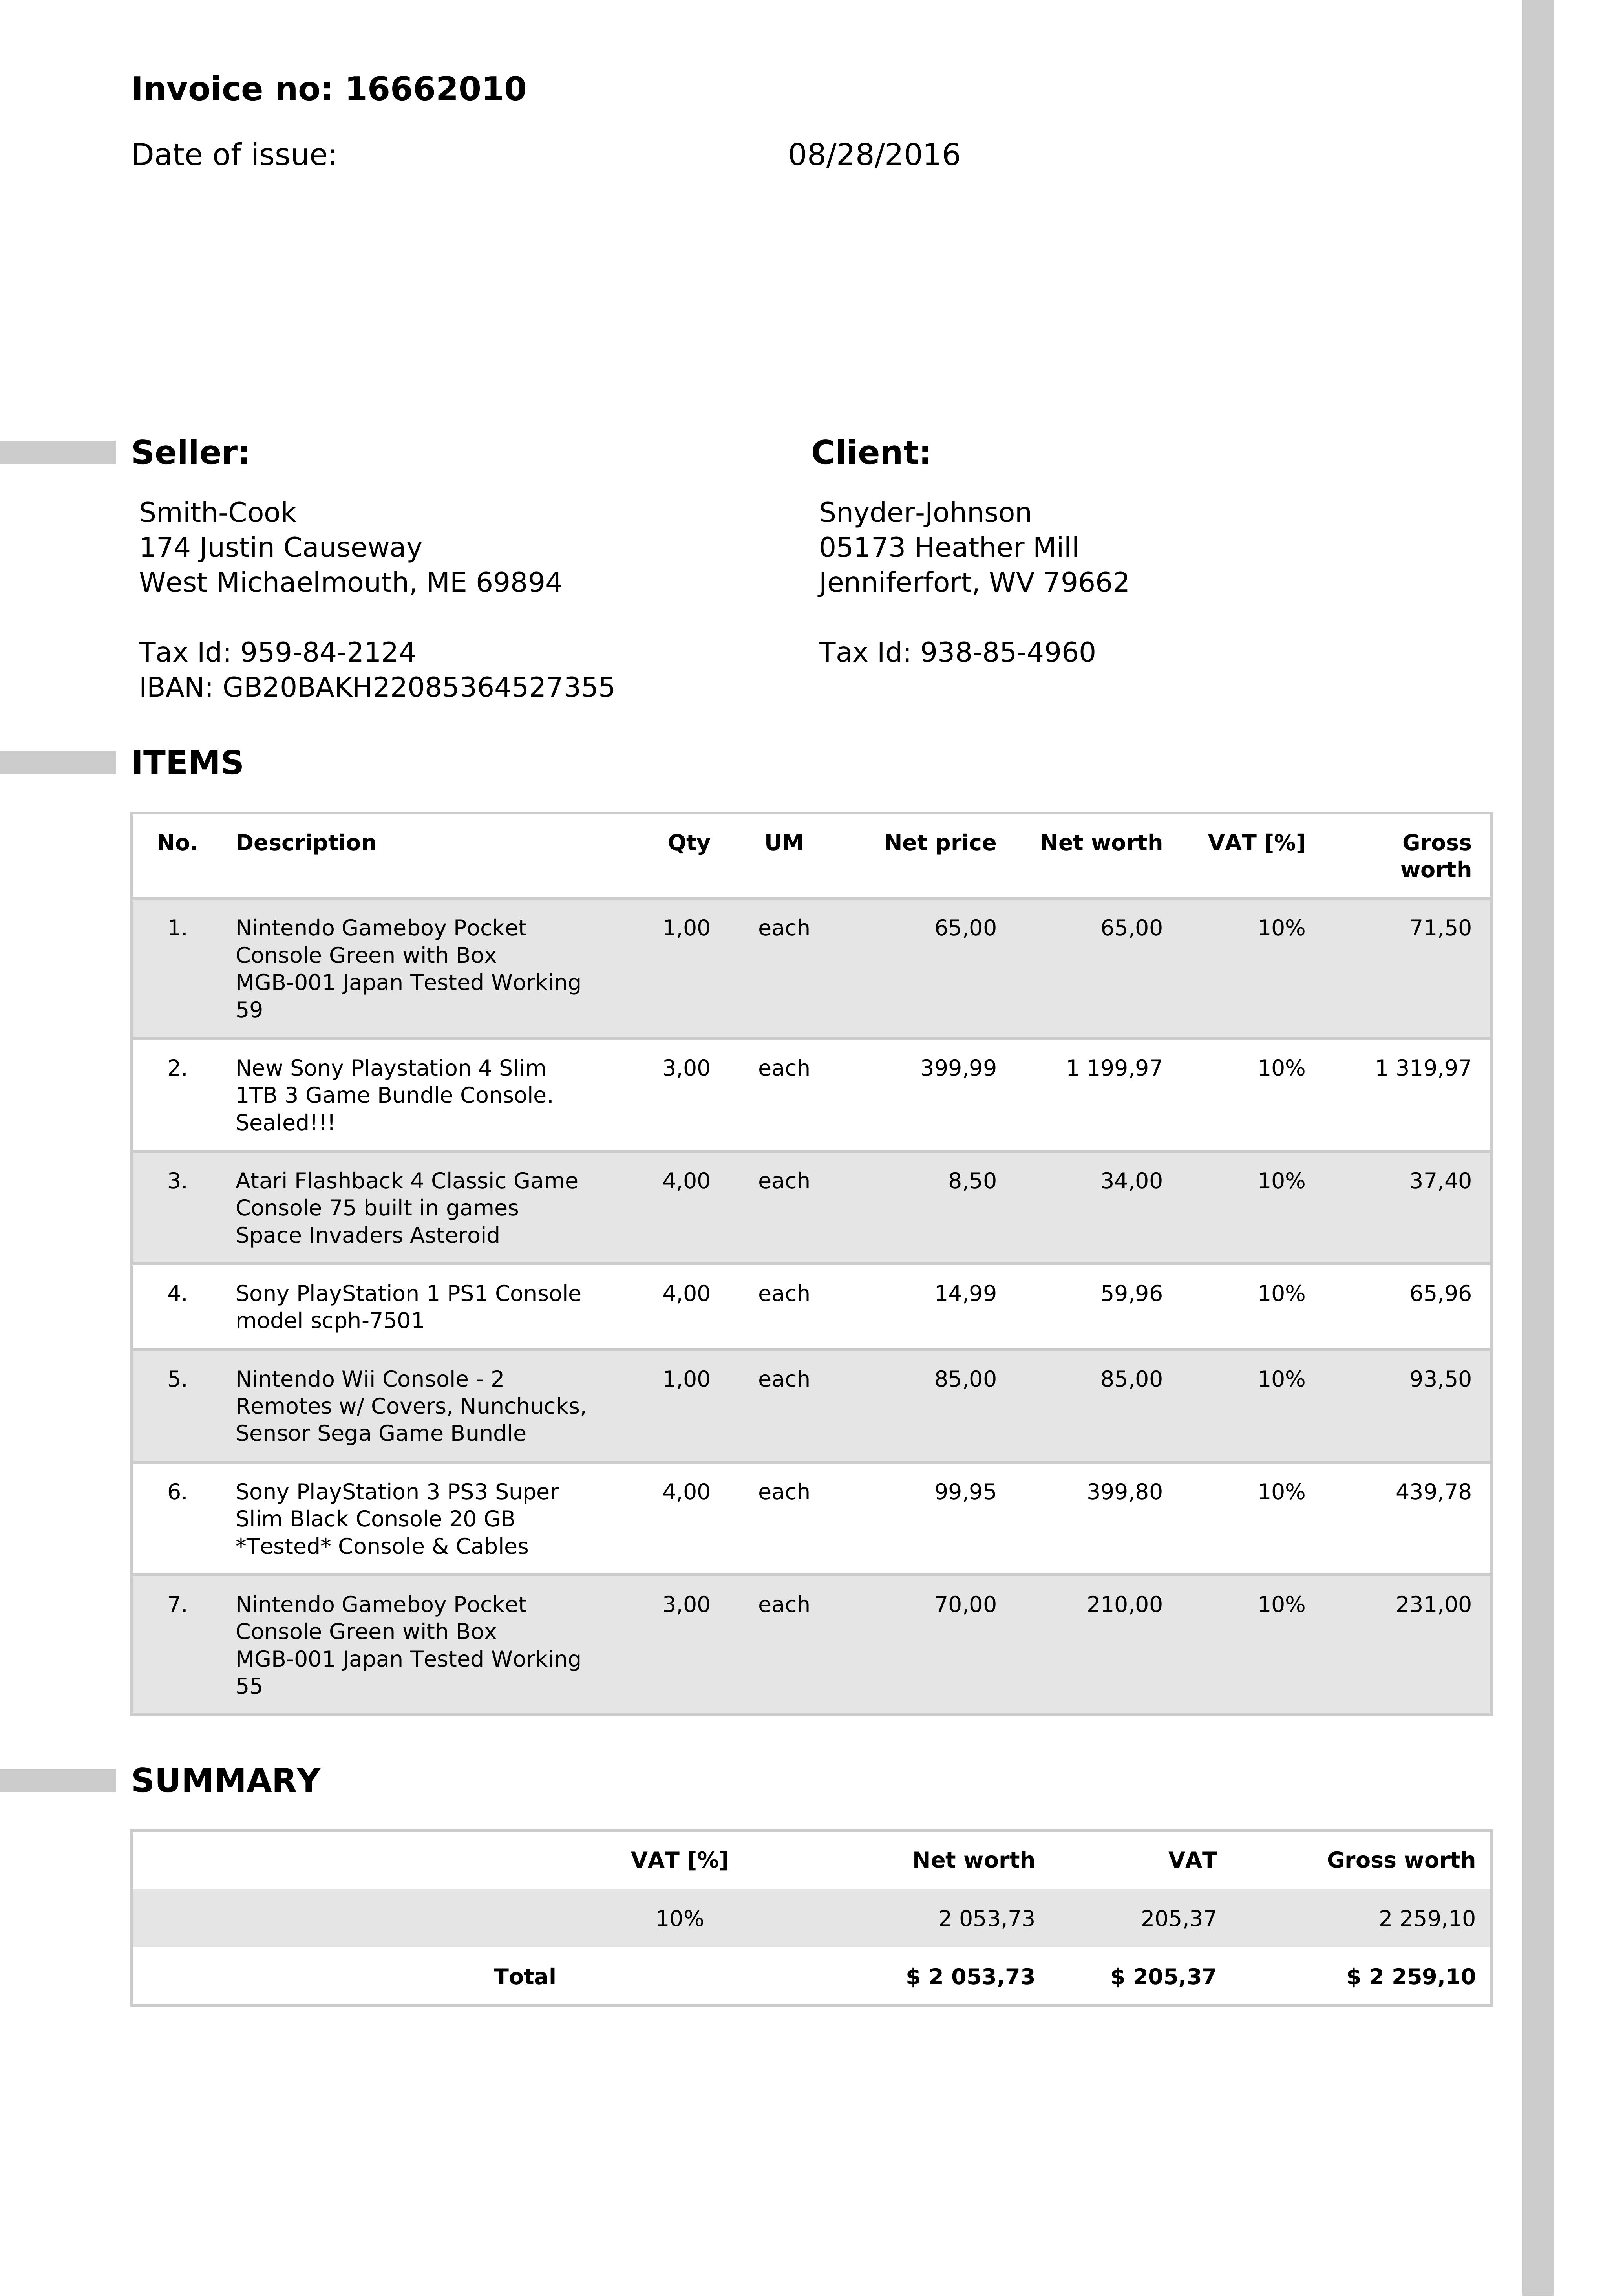column: (207, 815, 594, 1709), (873, 806, 1029, 1709), (1189, 815, 1338, 1715), (1040, 810, 1175, 1709), (1367, 817, 1490, 1715), (752, 819, 866, 1718), (627, 810, 738, 1713), (1305, 1832, 1486, 2003), (885, 1832, 1047, 1999), (1089, 1836, 1242, 2006), (615, 1832, 738, 2004), (478, 1830, 576, 2004)
